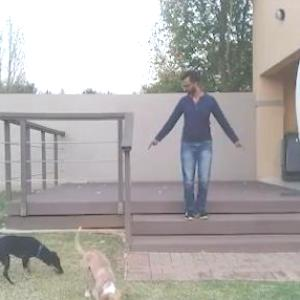land: (153, 69, 239, 230)
